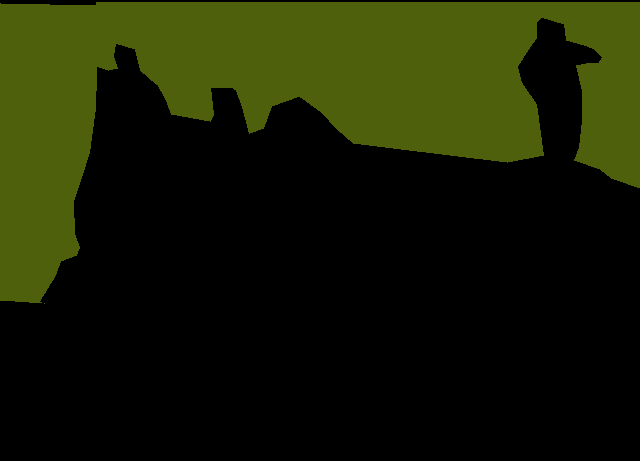Train: (96, 2, 640, 188), (0, 3, 98, 304)
